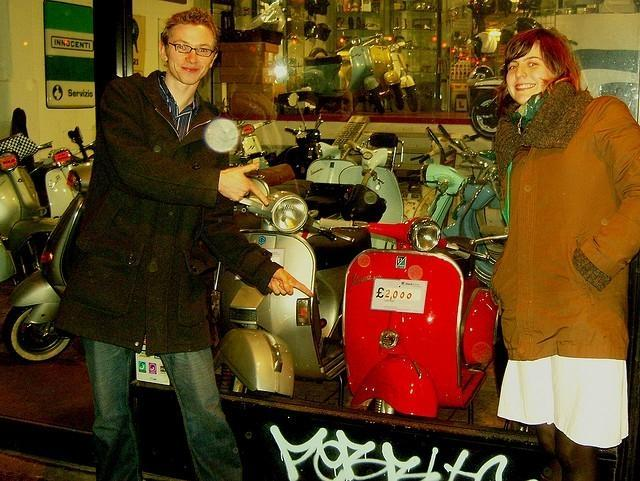motorcycle: (317, 211, 500, 418), (214, 186, 363, 394), (0, 160, 94, 364), (443, 140, 508, 290), (294, 34, 386, 114), (0, 148, 42, 280), (338, 141, 402, 221), (28, 144, 92, 217), (420, 161, 476, 231), (364, 34, 406, 112), (306, 140, 359, 184)
